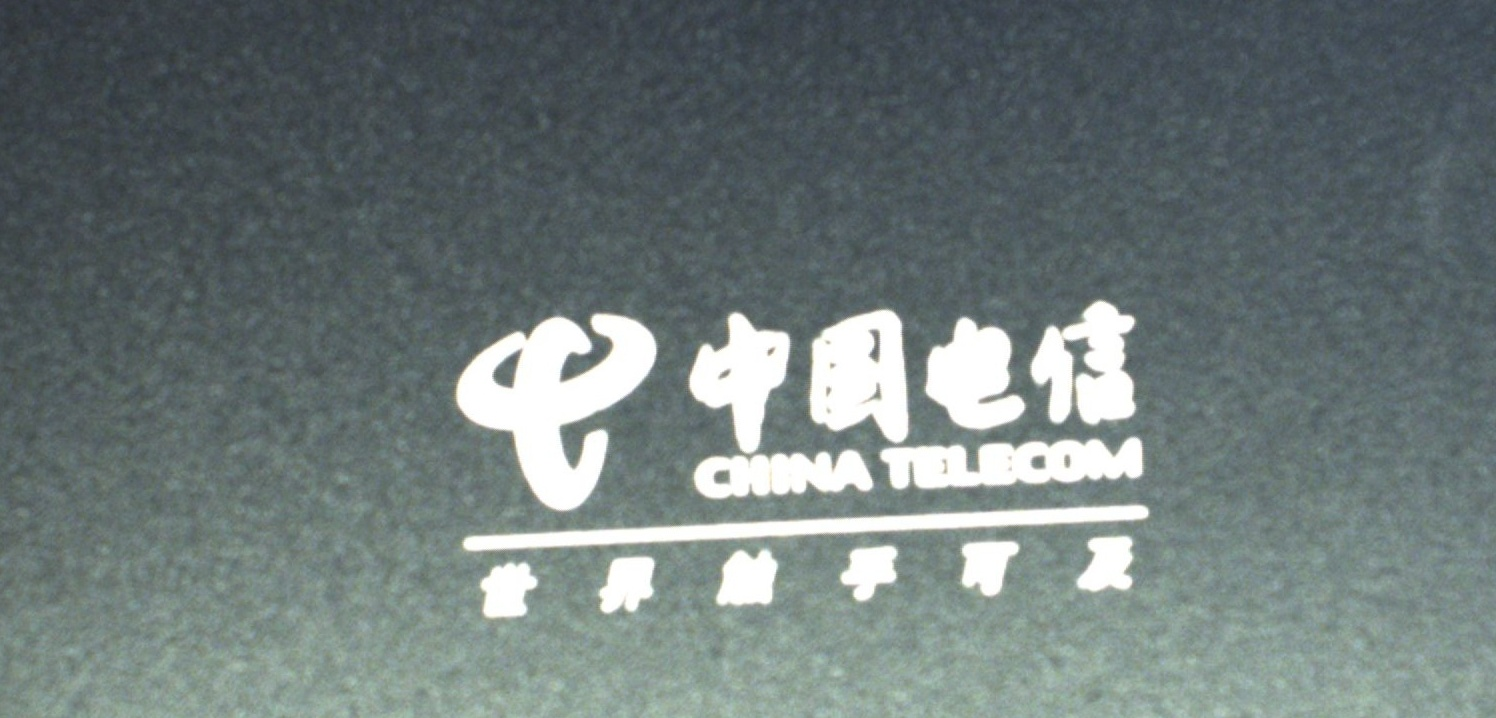AB_ChinaTelecom: (433, 291, 1161, 626)
